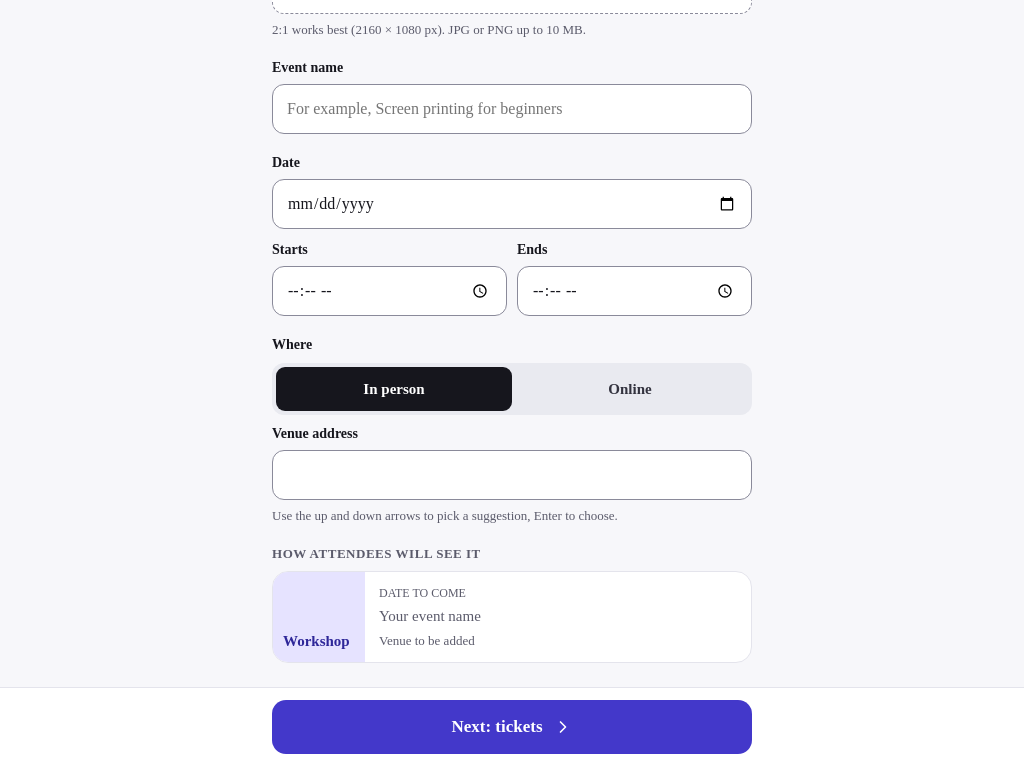
create-event wizard › picks a venue from the address suggestions with the keyboard
The image size is (1024, 768).
(page scrolled)
Type "Sydenham" into the dropdown labelled "Venue address" at (512, 475), box x1=272 y1=450 x2=752 y2=500
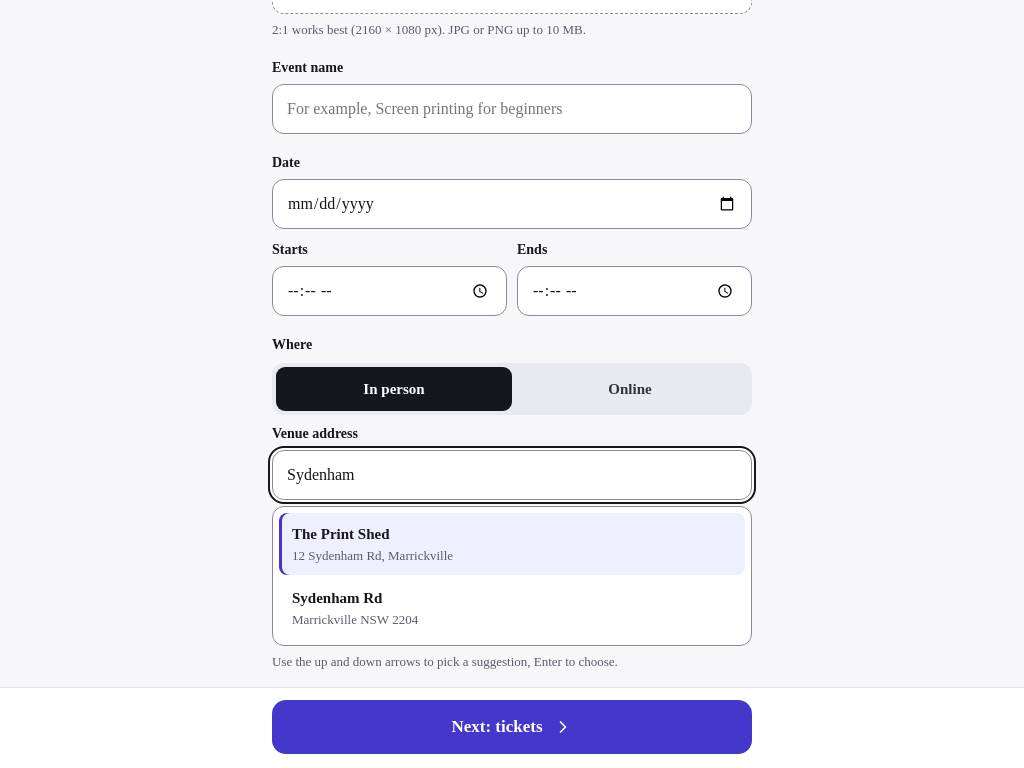
Expected: the number of options is 2, x1=279 y1=513 x2=745 y2=575; x1=292 y1=590 x2=418 y2=626
Expected: the dropdown labelled "Venue address" is expanded, x1=272 y1=450 x2=752 y2=500
Press Arrowdown Enter
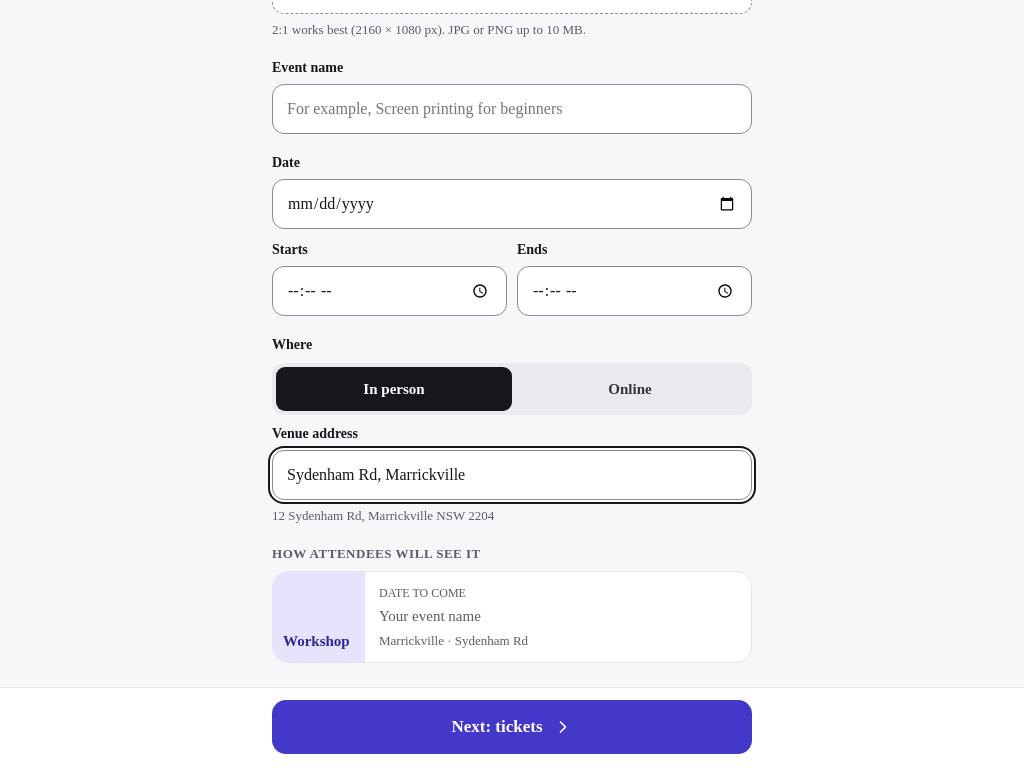
Expected: the dropdown labelled "Venue address" holds "Sydenham Rd, Marrickville", x1=272 y1=450 x2=752 y2=500
Expected: the dropdown labelled "Venue address" is collapsed, x1=272 y1=450 x2=752 y2=500
